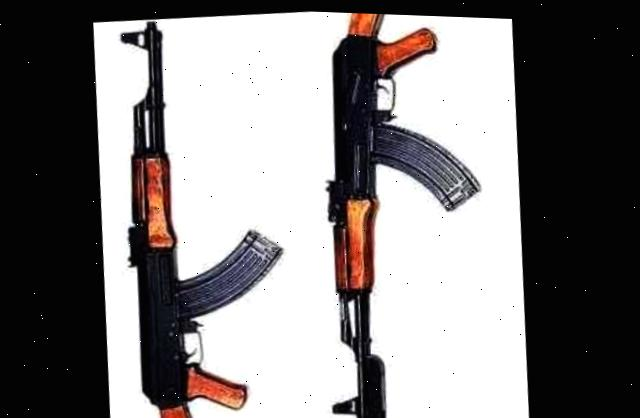rifle: (289, 9, 534, 418), (78, 5, 315, 418)
